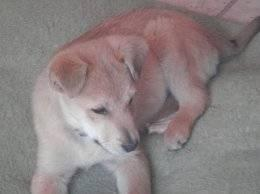dog: (31, 8, 236, 193)
